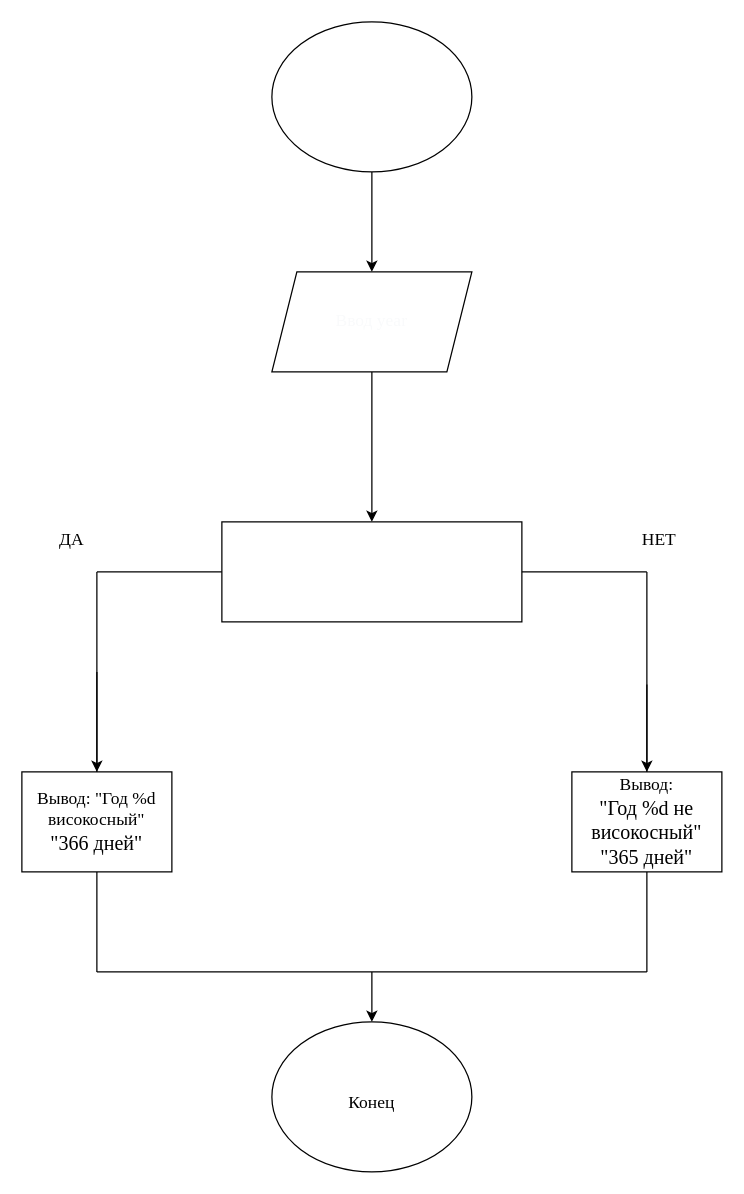
Image size: 744x1194. Some labels were removed from this diagram. Each missing label, with the box of its shape:
(year % 4 == 0) != (year % 100 == 0) || (year % 400 == 0): (221, 521, 522, 622)
Начало: (271, 21, 472, 172)
